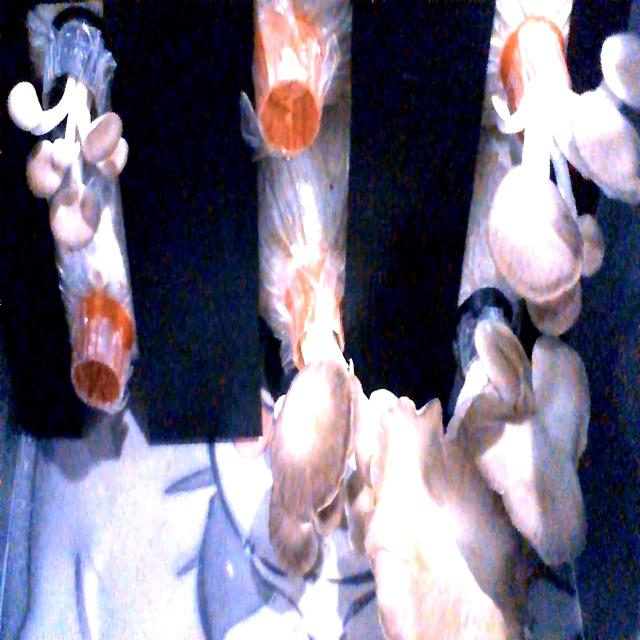big: (366, 307, 606, 640), (469, 11, 640, 338), (259, 354, 416, 590)
nfound: (252, 66, 332, 173), (79, 343, 137, 442)
small: (2, 67, 138, 241)
